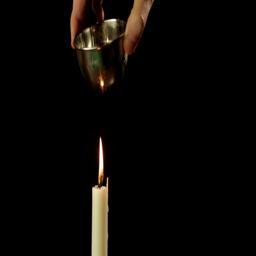fire: (99, 136, 104, 184)
